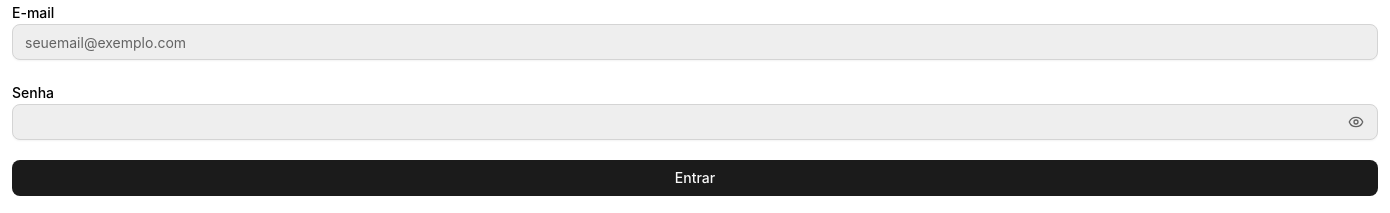
Test: toggles password visibility with an accessible control
Click the button named "Mostrar senha".
click(1356, 122)  # box 1334,104 -> 1378,140
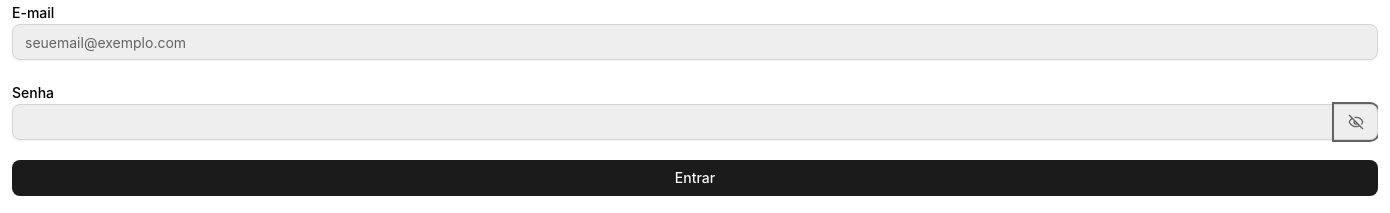
Expected: the button named "Ocultar senha" is pressed, 1334,104 -> 1378,140
